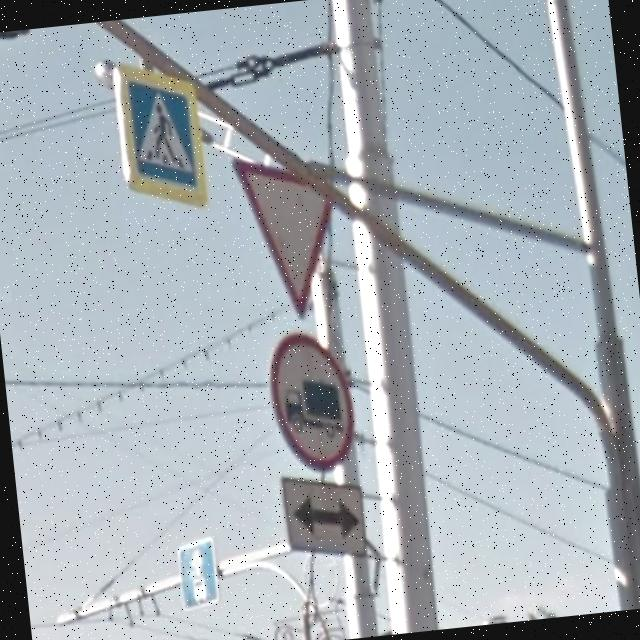Przejscie dla pieszych: (110, 54, 211, 218)
Ustap pierwszenstwa: (230, 145, 348, 326)
